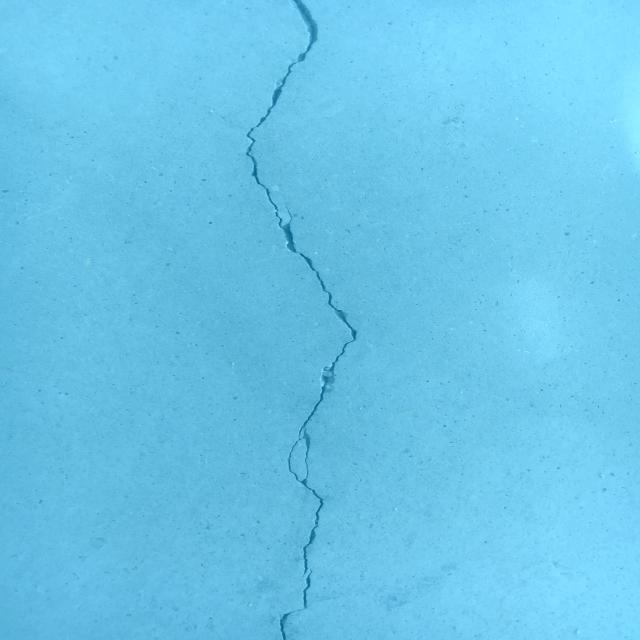crack: (245, 0, 386, 640)
